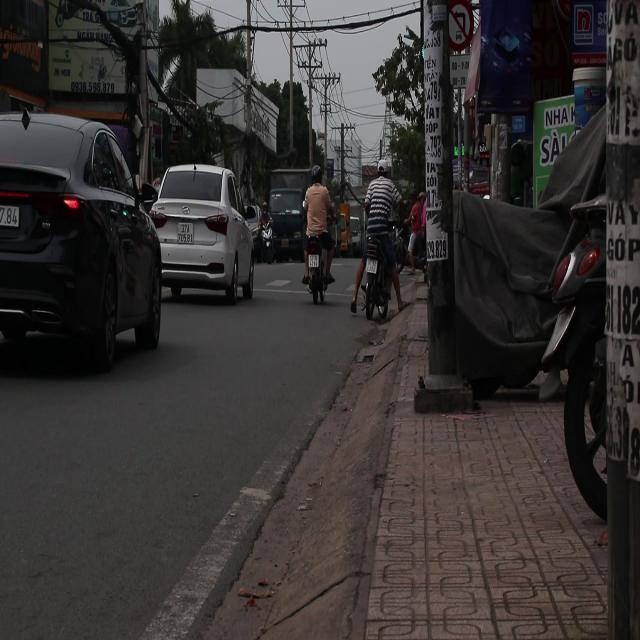car: (0, 109, 166, 376), (152, 163, 257, 304)
motorbike: (355, 194, 401, 330), (298, 203, 334, 312)
truck: (265, 169, 312, 264)
